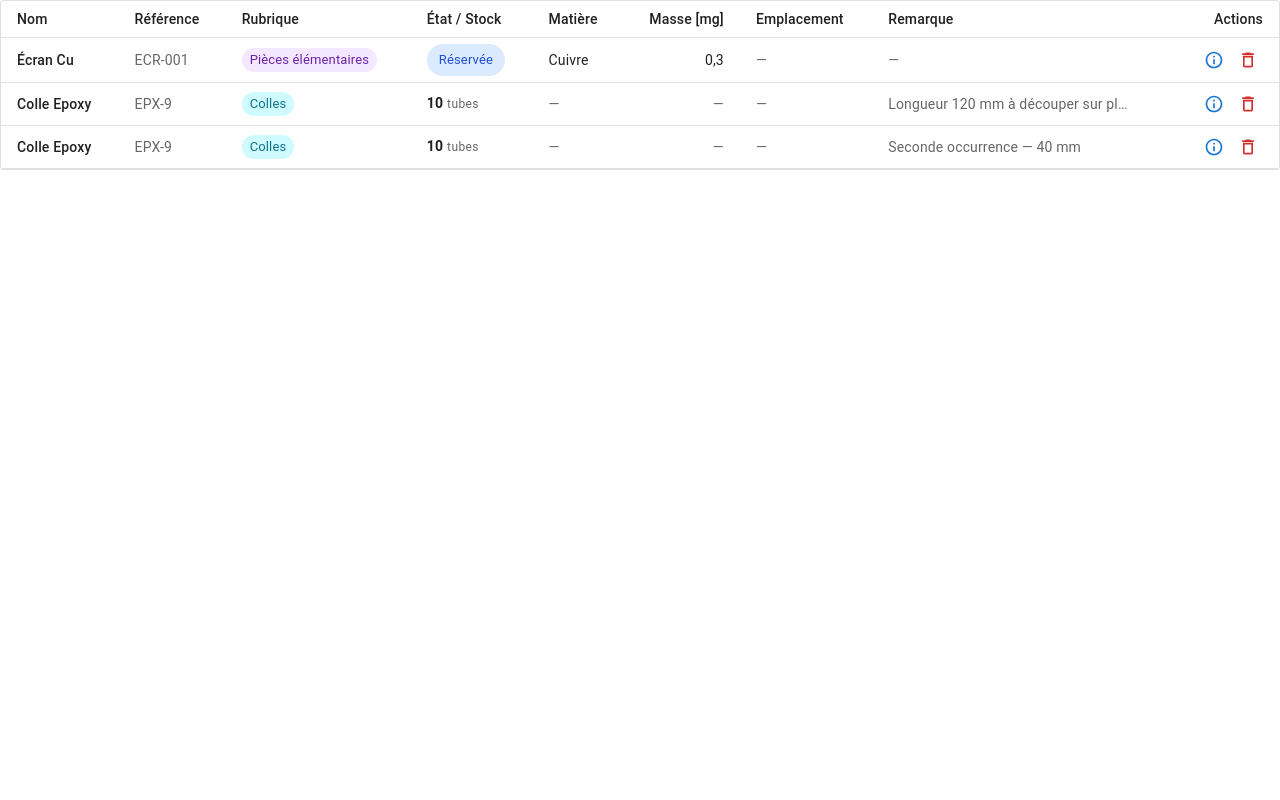
AssemblyItemsTable › ouvre la fiche au double-clic avec la remarque complète de LA ligne
Expected: the text "Écran Cu" is shown, [17,52,74,68]
Double-click the row named "Ligne Colle Epoxy" at (640, 104), box [1,82,1279,126]
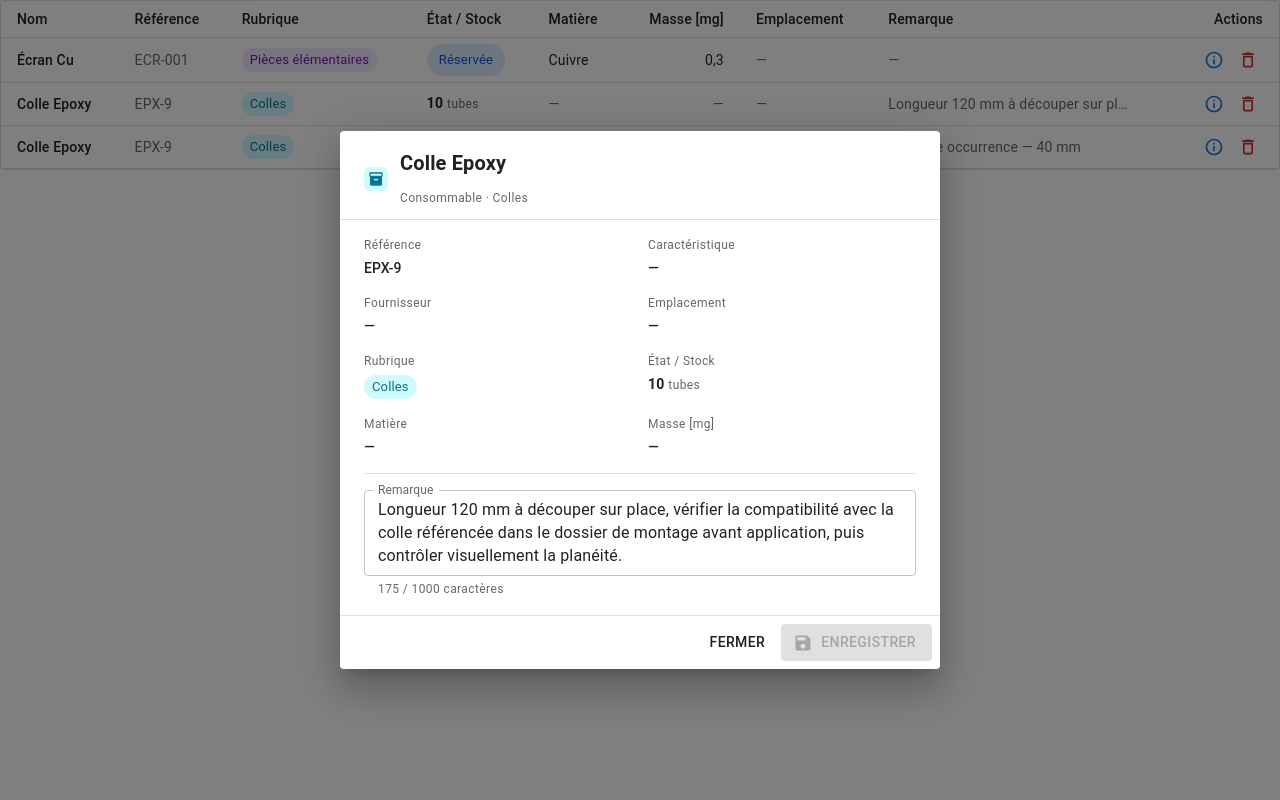
Expected: the text "EPX-9" is shown, [364,260,402,276]
Expected: the text "Colles" is shown, [372,379,409,394]
